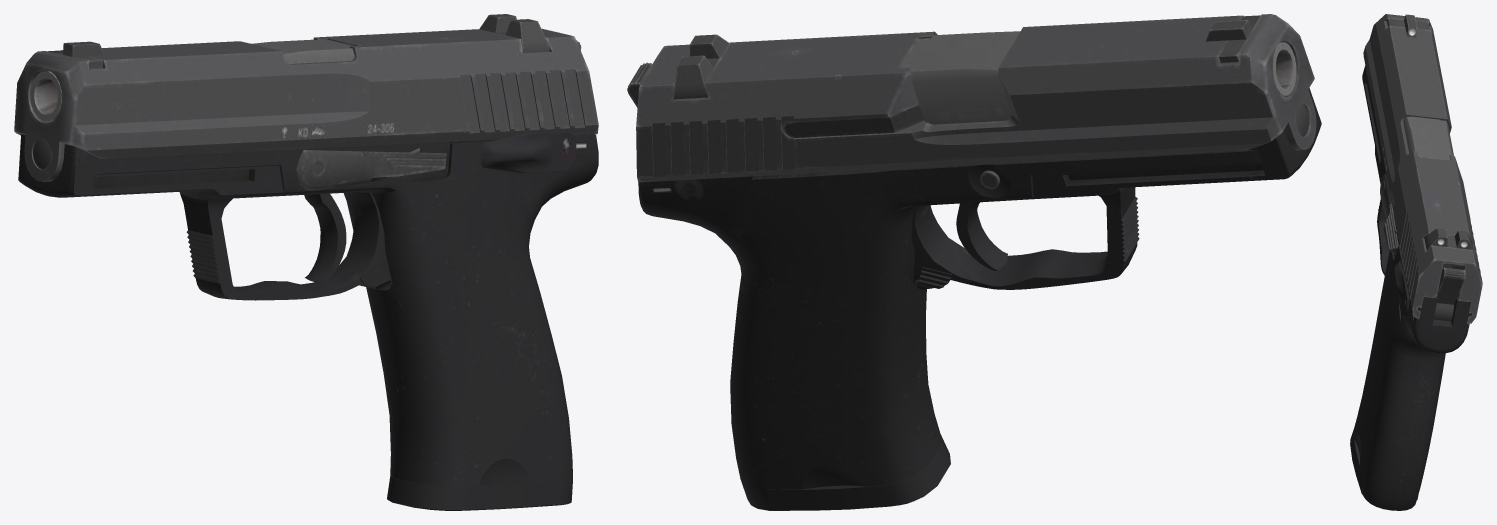
Rendered from usp.glb.
The picture shows the model from 3 angles, left to right: view 1: azimuth 30°, elevation 25°; view 2: azimuth 150°, elevation 25°; view 3: azimuth 270°, elevation 25°; orthographic projection. The views are drawn at different scales.
Visible parts, largest first — view 1: lower_frame_lowpoly_Material #33_0, slide_lowpoly, mechanics_lowpoly_Material #33_0, magazine_lowpoly, barrel_lowpoly, sights_lowpoly; view 2: lower_frame_lowpoly_Material #33_0, slide_lowpoly, barrel_lowpoly, magazine_lowpoly, sights_lowpoly, mechanics_lowpoly_Material #33_0, slide_insert_lowpoly; view 3: slide_lowpoly, lower_frame_lowpoly_Material #33_0, mechanics_lowpoly_Material #33_0, barrel_lowpoly, sights_lowpoly, magazine_lowpoly.
Boxes of the visible parts, left/top/right/bottom form: lower_frame_lowpoly_Material #33_0: left=18, top=134, right=598, bottom=505; slide_lowpoly: left=14, top=28, right=598, bottom=181; mechanics_lowpoly_Material #33_0: left=296, top=40, right=581, bottom=290; magazine_lowpoly: left=387, top=476, right=561, bottom=510; barrel_lowpoly: left=30, top=39, right=354, bottom=121; sights_lowpoly: left=48, top=14, right=549, bottom=68; lower_frame_lowpoly_Material #33_0: left=638, top=88, right=1321, bottom=510; slide_lowpoly: left=636, top=14, right=1316, bottom=182; barrel_lowpoly: left=901, top=31, right=1296, bottom=124; magazine_lowpoly: left=767, top=434, right=950, bottom=510; sights_lowpoly: left=673, top=15, right=1260, bottom=99; mechanics_lowpoly_Material #33_0: left=627, top=62, right=1007, bottom=289; slide_insert_lowpoly: left=782, top=104, right=924, bottom=137; slide_lowpoly: left=1363, top=14, right=1482, bottom=323; lower_frame_lowpoly_Material #33_0: left=1353, top=66, right=1471, bottom=510; mechanics_lowpoly_Material #33_0: left=1380, top=173, right=1465, bottom=321; barrel_lowpoly: left=1403, top=116, right=1453, bottom=159; sights_lowpoly: left=1387, top=14, right=1474, bottom=253; magazine_lowpoly: left=1350, top=264, right=1451, bottom=499.
Bounding box in the file's own units: 65.32 × 59.96 × 20.43.
1 material, 1 textured.
